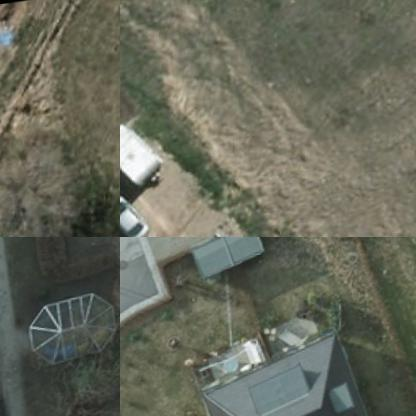camping car: (120, 113, 178, 196)
car: (120, 185, 163, 236)
